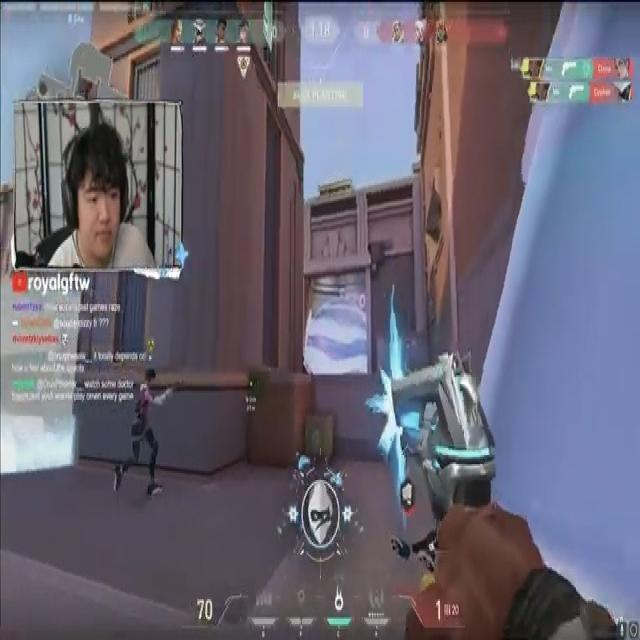ally: (109, 364, 174, 518)
